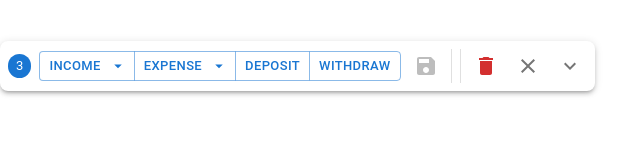
Test: CompactActionBar › Expand/collapse toggle › collapses when clicked again
Click the button with test id "expand-button": (570, 66) [553,49,587,83]
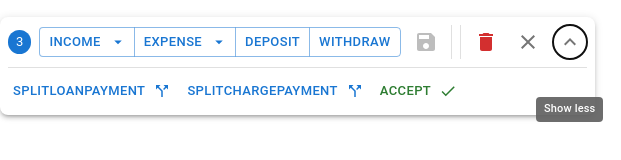
Expected: the button "splitLoanPayment" is shown, [8,76,174,107]
# Collapse - the Collapse component hides content, check for the collapsed state
Click the button with test id "expand-button": (570, 42) [553,25,587,59]
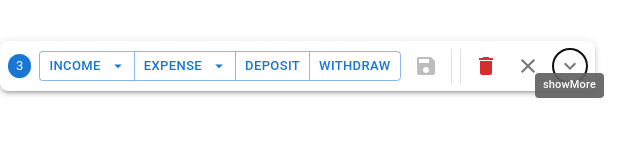
Expected: the icon with test id "ExpandMoreIcon" is shown, [558,54,582,78]
